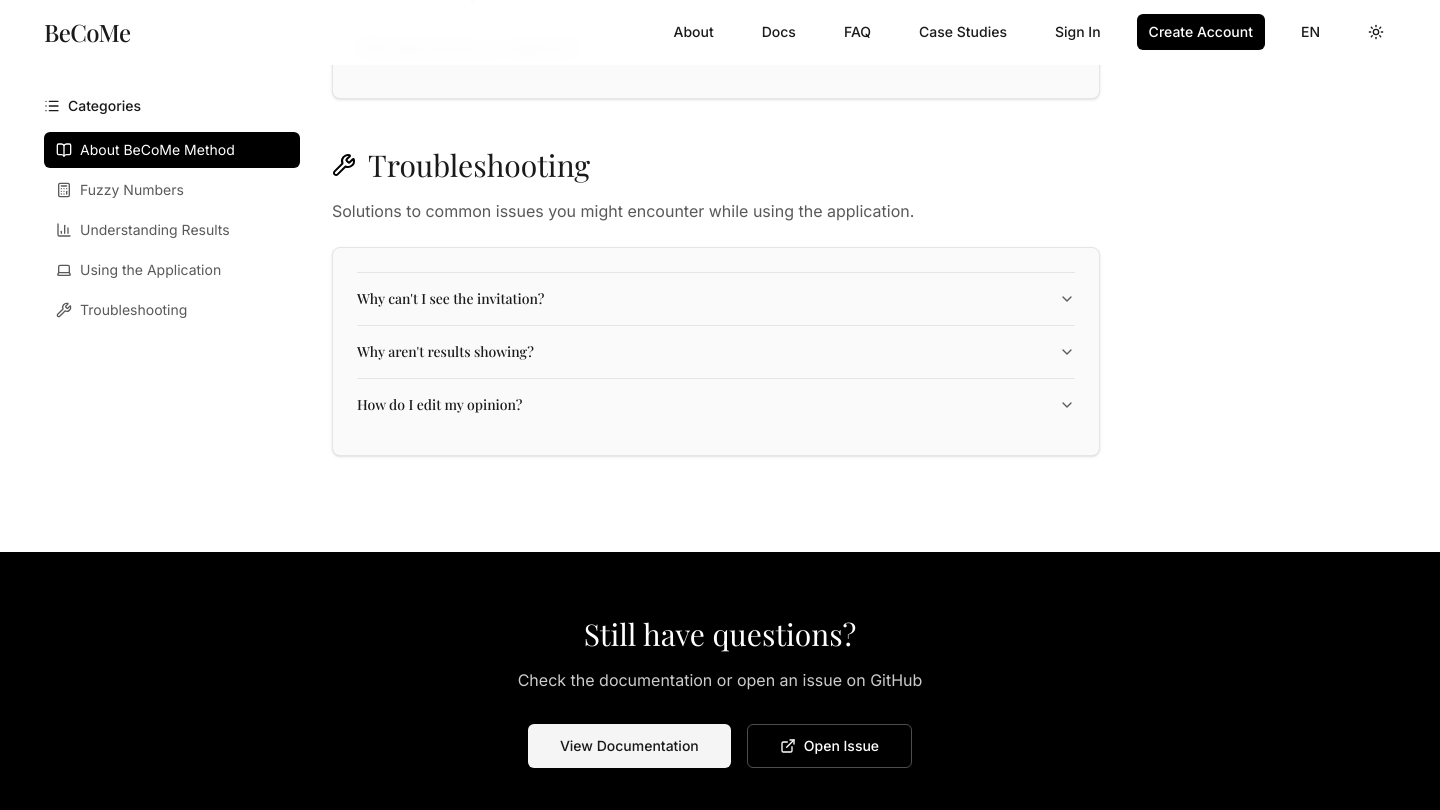
Test: FAQ › answer matches what the application does (en: How do I edit my opinion?)
The width and height of the screenshot is (1440, 810).
(page scrolled)
Click the button "How do I edit my opinion?": coordinates (440, 404) [357,379,1075,431]
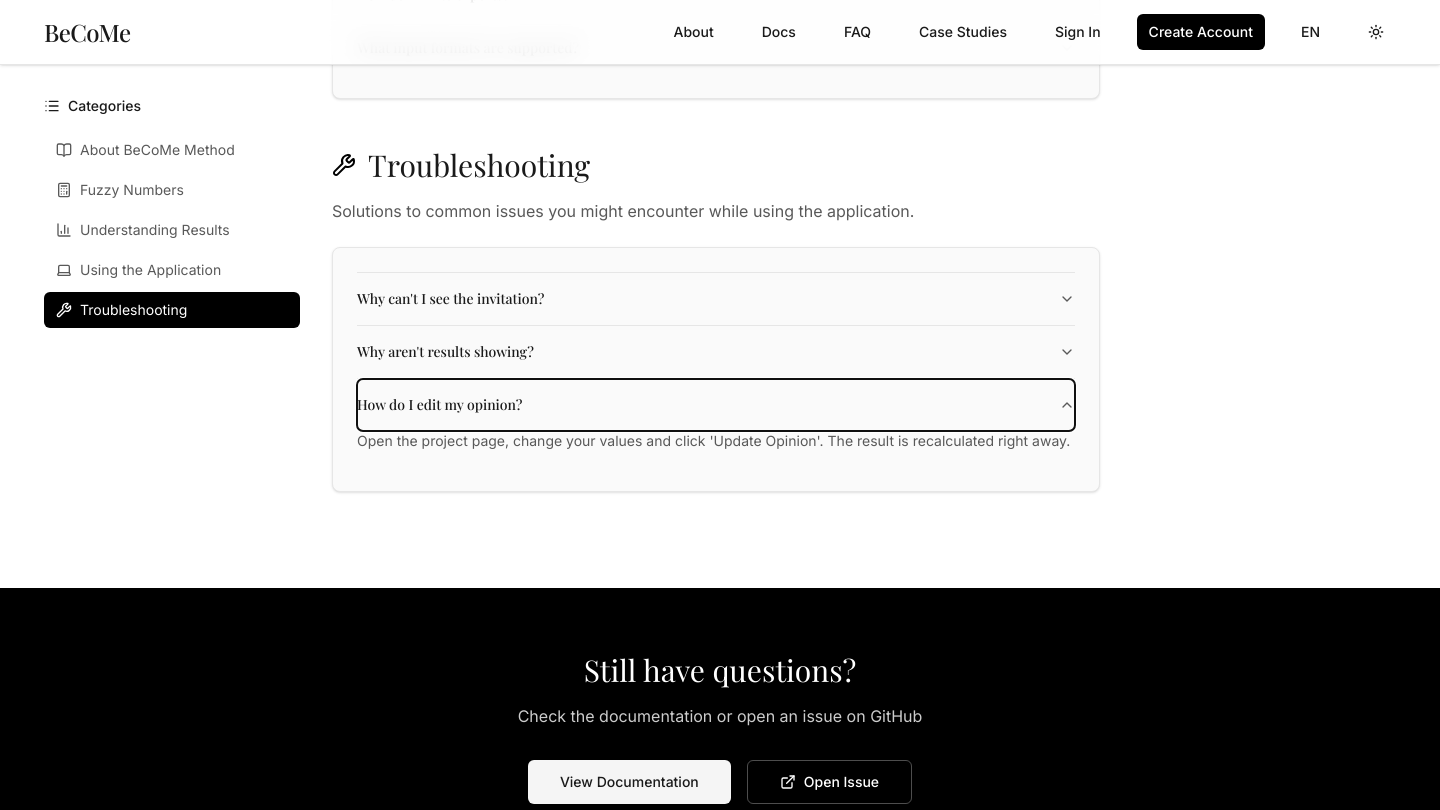
Expected: the text "Open the project page, change your values and click 'Update Opinion'. The result is recalculated right away." is shown, [357,432,1070,449]
